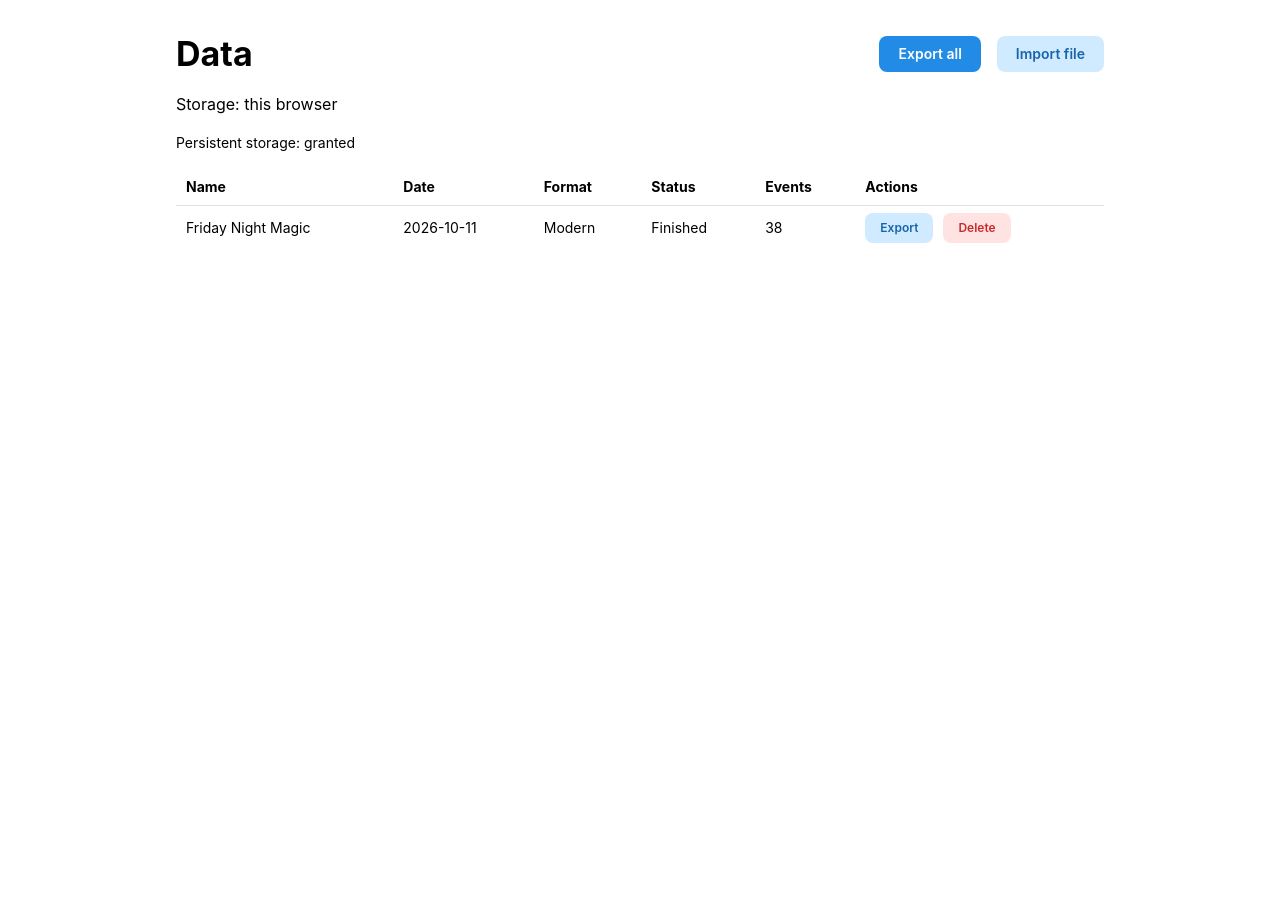
Test: DataPage delete › explains a conflict and keeps the row when the stored revision changed
Click the button "Delete". click: click(977, 228)
box: 943,213 -> 1011,243
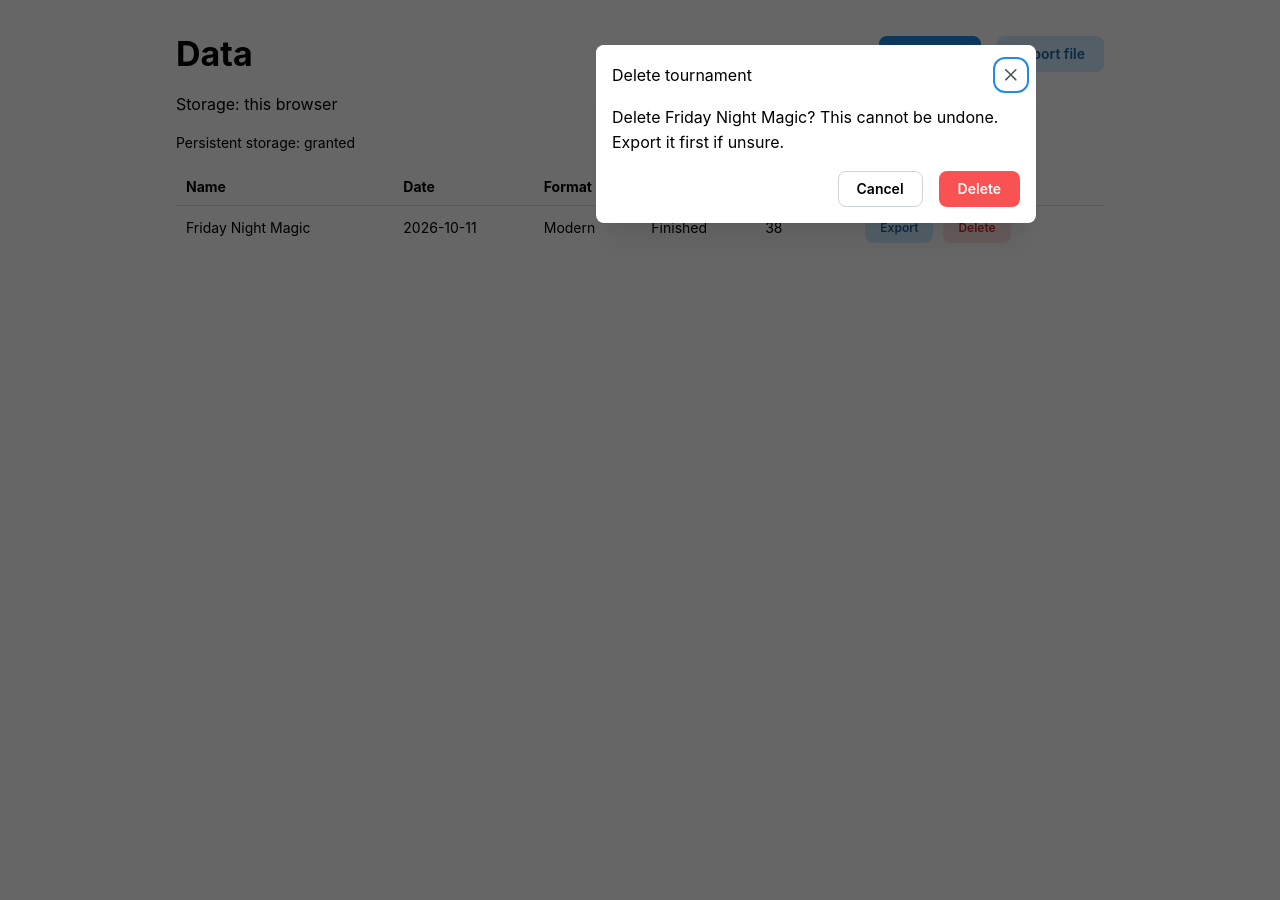
expect the text "Delete Friday Night Magic? This cannot be undone. Export it first if unsure." is shown: met, box 612,105 -> 1020,155
Click the button "Delete". click: click(979, 189)
box: 939,171 -> 1020,207
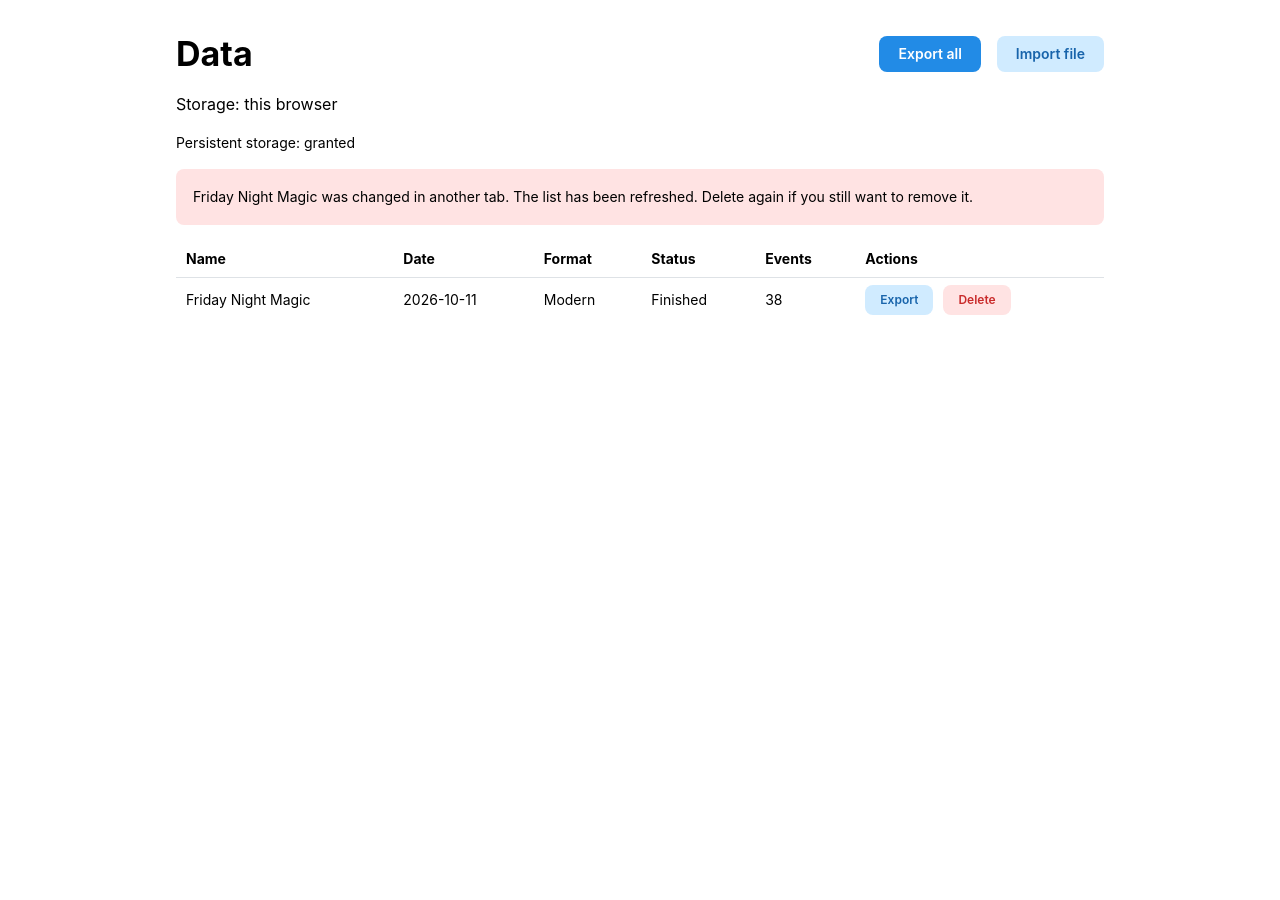
expect the text "Friday Night Magic" is shown: met, box 176,277 -> 393,322
expect the text "Friday Night Magic was changed in another tab. The list has been refreshed. Delete again if you still want to remove it." is shown: met, box 193,188 -> 973,205
